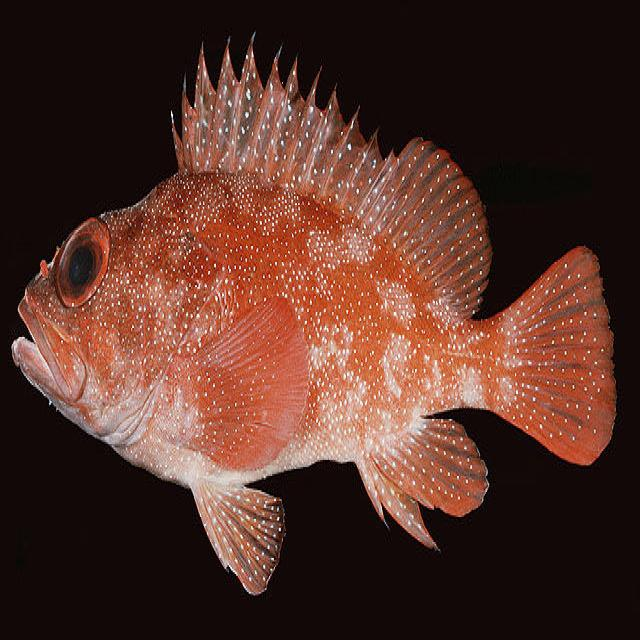ikan: (11, 30, 617, 598)
